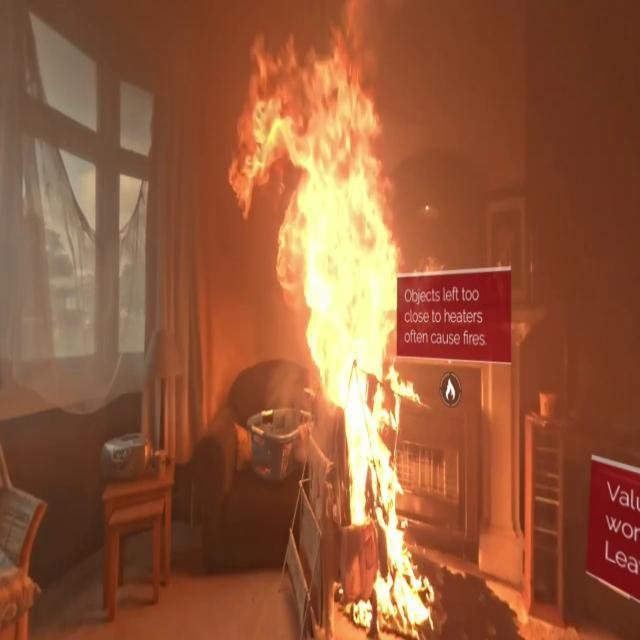Fire: (238, 0, 428, 623)
